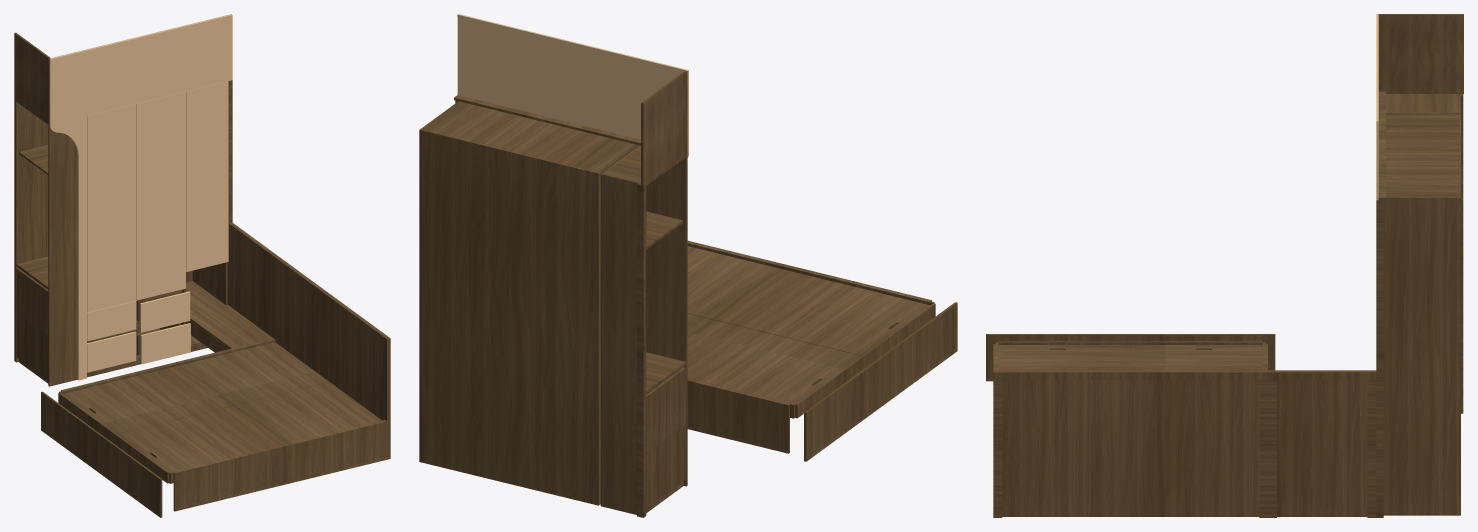
The picture shows the model from 3 angles, left to right: view 1: azimuth 30°, elevation 25°; view 2: azimuth 150°, elevation 25°; view 3: azimuth 270°, elevation 25°; orthographic projection. The views are drawn at different scales.
Visible parts, largest first — view 1: ABF_PART_560____LYR_[Layer0]____560. PN CON*[T.ÁO_1]-CHỈ NÓC, ABF_PART_491____LYR_[Layer0]____491. PN CON*[Giường1M8]- Vạt, ABF_PART_483____LYR_[Layer0]____483. PN CON*[Giường1M8]- Vạt, ABF_PART_479____LYR_[Layer0]____479. PN CON*[Giường1M8]- ĐG , ABF_PART_666____LYR_[02-CÁNH]____666. PN CON*[T.ÁO_2]-Cánh (, ABF_PART_665____LYR_[02-CÁNH]____665. PN CON*[T.ÁO_2]-Cánh (, ABF_PART_490____LYR_[Layer0]____490. PN CON*[Giường1M8]- Vai, ABF_PART_668____LYR_[02-CÁNH]____668. PN CON*[T.ÁO_2]-Cánh (, ABF_PART_550____LYR_[Layer0]____550. PN CON*[T.ÁO_1]-Hông Tr, ABF_PART_454____LYR_[Layer0]____454. PN CON*[Giường1M8]-Đuôi, ABF_PART_549____LYR_[Layer0]____549. PN CON*[T.ÁO_1]-Hông Ph, ABF_PART_467____LYR_[Layer0]____467. PN CON*[Giường1M8]- ĐG  (+16 smaller); view 2: ABF_PART_524____LYR_[Layer0]____524. PN CON*[T.ÁO_2]-HẬU TỦ, ABF_PART_517____LYR_[Layer0]____517. PN CON*[T.ÁO_2]-HẬU TỦ, ABF_PART_560____LYR_[Layer0]____560. PN CON*[T.ÁO_1]-CHỈ NÓC, ABF_PART_483____LYR_[Layer0]____483. PN CON*[Giường1M8]- Vạt, ABF_PART_549____LYR_[Layer0]____549. PN CON*[T.ÁO_1]-Hông Ph, ABF_PART_491____LYR_[Layer0]____491. PN CON*[Giường1M8]- Vạt, ABF_PART_454____LYR_[Layer0]____454. PN CON*[Giường1M8]-Đuôi, ABF_PART_550____LYR_[Layer0]____550. PN CON*[T.ÁO_1]-Hông Tr, ABF_PART_521____LYR_[Layer0]____521. PN CON*[T.ÁO_2]-Nóc, ABF_PART_480____LYR_[Layer0]____480. PN CON*[Giường1M8]- Vai, ABF_PART_559____LYR_[Layer0]____559. PN CON*[T.ÁO_1]-Hông Ph, ABF_PART_510____LYR_[Layer0]____510. PN CON*[T.ÁO_1]-NẸP TƯỜ (+10 smaller); view 3: ABF_PART_479____LYR_[Layer0]____479. PN CON*[Giường1M8]- ĐG , ABF_PART_667____LYR_[Layer0]____667. PN CON*[T.ÁO_2]-Hông Ph, ABF_PART_467____LYR_[Layer0]____467. PN CON*[Giường1M8]- ĐG , ABF_PART_559____LYR_[Layer0]____559. PN CON*[T.ÁO_1]-Hông Ph, ABF_PART_521____LYR_[Layer0]____521. PN CON*[T.ÁO_2]-Nóc, ABF_PART_491____LYR_[Layer0]____491. PN CON*[Giường1M8]- Vạt, ABF_PART_483____LYR_[Layer0]____483. PN CON*[Giường1M8]- Vạt, ABF_PART_454____LYR_[Layer0]____454. PN CON*[Giường1M8]-Đuôi, ABF_PART_484____LYR_[Layer0]____484. PN CON*[Giường1M8]- ĐG , ABF_PART_444____LYR_[Layer0]____444. PN CON*[T.ÁO_2]-NẸP TƯỜ, ABF_PART_544____LYR_[Layer0]____544. PN CON*[T.ÁO_1]-Nóc, ABF_PART_449____LYR_[Layer0]____449. PN CON*[Giường1M8]- ĐG  (+9 smaller).
Part boxes in pixels (x1,y1,x2,y2): ABF_PART_560____LYR_[Layer0]____560. PN CON*[T.ÁO_1]-CHỈ NÓC: (49,14,232,124); ABF_PART_491____LYR_[Layer0]____491. PN CON*[Giường1M8]- Vạt: (62,342,329,433); ABF_PART_483____LYR_[Layer0]____483. PN CON*[Giường1M8]- Vạt: (117,382,381,472); ABF_PART_479____LYR_[Layer0]____479. PN CON*[Giường1M8]- ĐG : (273,256,388,459); ABF_PART_666____LYR_[02-CÁNH]____666. PN CON*[T.ÁO_2]-Cánh (: (136,91,185,300); ABF_PART_665____LYR_[02-CÁNH]____665. PN CON*[T.ÁO_2]-Cánh (: (87,104,136,312); ABF_PART_490____LYR_[Layer0]____490. PN CON*[Giường1M8]- Vai: (173,420,386,511); ABF_PART_668____LYR_[02-CÁNH]____668. PN CON*[T.ÁO_2]-Cánh (: (186,81,228,271); ABF_PART_550____LYR_[Layer0]____550. PN CON*[T.ÁO_1]-Hông Tr: (48,123,77,386); ABF_PART_454____LYR_[Layer0]____454. PN CON*[Giường1M8]-Đuôi: (41,391,162,517); ABF_PART_549____LYR_[Layer0]____549. PN CON*[T.ÁO_1]-Hông Ph: (15,99,48,362); ABF_PART_467____LYR_[Layer0]____467. PN CON*[Giường1M8]- ĐG : (229,223,274,337); ABF_PART_524____LYR_[Layer0]____524. PN CON*[T.ÁO_2]-HẬU TỦ: (473,142,599,505); ABF_PART_517____LYR_[Layer0]____517. PN CON*[T.ÁO_2]-HẬU TỦ: (419,129,473,474); ABF_PART_560____LYR_[Layer0]____560. PN CON*[T.ÁO_1]-CHỈ NÓC: (457,14,688,152); ABF_PART_483____LYR_[Layer0]____483. PN CON*[Giường1M8]- Vạt: (687,246,929,355); ABF_PART_549____LYR_[Layer0]____549. PN CON*[T.ÁO_1]-Hông Ph: (602,173,646,516); ABF_PART_491____LYR_[Layer0]____491. PN CON*[Giường1M8]- Vạt: (687,313,860,403); ABF_PART_454____LYR_[Layer0]____454. PN CON*[Giường1M8]-Đuôi: (804,302,957,461); ABF_PART_550____LYR_[Layer0]____550. PN CON*[T.ÁO_1]-Hông Tr: (646,154,687,486); ABF_PART_521____LYR_[Layer0]____521. PN CON*[T.ÁO_2]-Nóc: (423,102,634,172); ABF_PART_480____LYR_[Layer0]____480. PN CON*[Giường1M8]- Vai: (687,379,789,453); ABF_PART_559____LYR_[Layer0]____559. PN CON*[T.ÁO_1]-Hông Ph: (641,70,687,185); ABF_PART_510____LYR_[Layer0]____510. PN CON*[T.ÁO_1]-NẸP TƯỜ: (637,183,644,517); ABF_PART_479____LYR_[Layer0]____479. PN CON*[Giường1M8]- ĐG : (993,370,1267,516); ABF_PART_667____LYR_[Layer0]____667. PN CON*[T.ÁO_2]-Hông Ph: (1383,197,1459,515); ABF_PART_467____LYR_[Layer0]____467. PN CON*[Giường1M8]- ĐG : (1268,370,1376,516); ABF_PART_559____LYR_[Layer0]____559. PN CON*[T.ÁO_1]-Hông Ph: (1378,14,1463,93); ABF_PART_521____LYR_[Layer0]____521. PN CON*[T.ÁO_2]-Nóc: (1386,115,1459,196); ABF_PART_491____LYR_[Layer0]____491. PN CON*[Giường1M8]- Vạt: (1131,345,1262,370); ABF_PART_483____LYR_[Layer0]____483. PN CON*[Giường1M8]- Vạt: (999,345,1130,370); ABF_PART_454____LYR_[Layer0]____454. PN CON*[Giường1M8]-Đuôi: (986,334,1275,381); ABF_PART_484____LYR_[Layer0]____484. PN CON*[Giường1M8]- ĐG : (993,371,1267,380); ABF_PART_444____LYR_[Layer0]____444. PN CON*[T.ÁO_2]-NẸP TƯỜ: (1376,200,1383,517); ABF_PART_544____LYR_[Layer0]____544. PN CON*[T.ÁO_1]-Nóc: (1386,94,1458,112); ABF_PART_449____LYR_[Layer0]____449. PN CON*[Giường1M8]- ĐG : (1367,380,1376,517).
Bounding box in the file's own units: 2.23 × 3 × 3.27.
3 materials, 2 textured.
